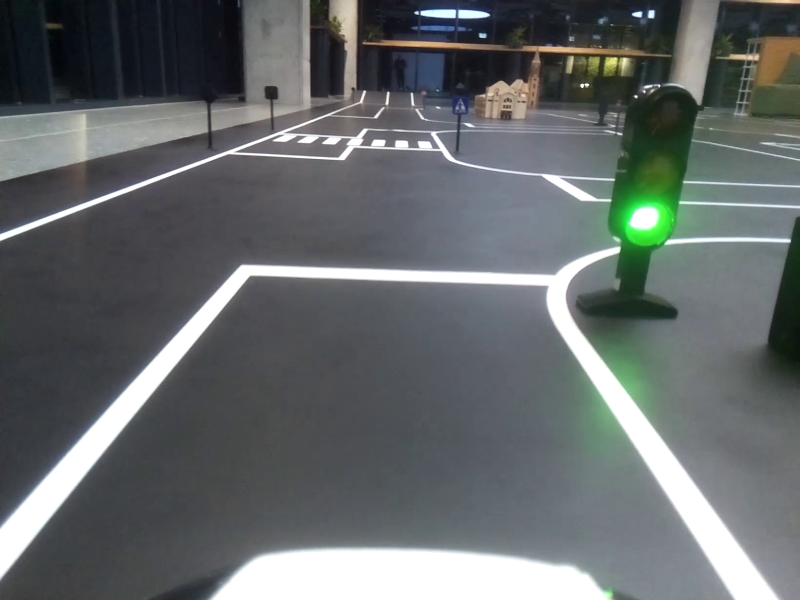traffic_green: (613, 86, 697, 253)
